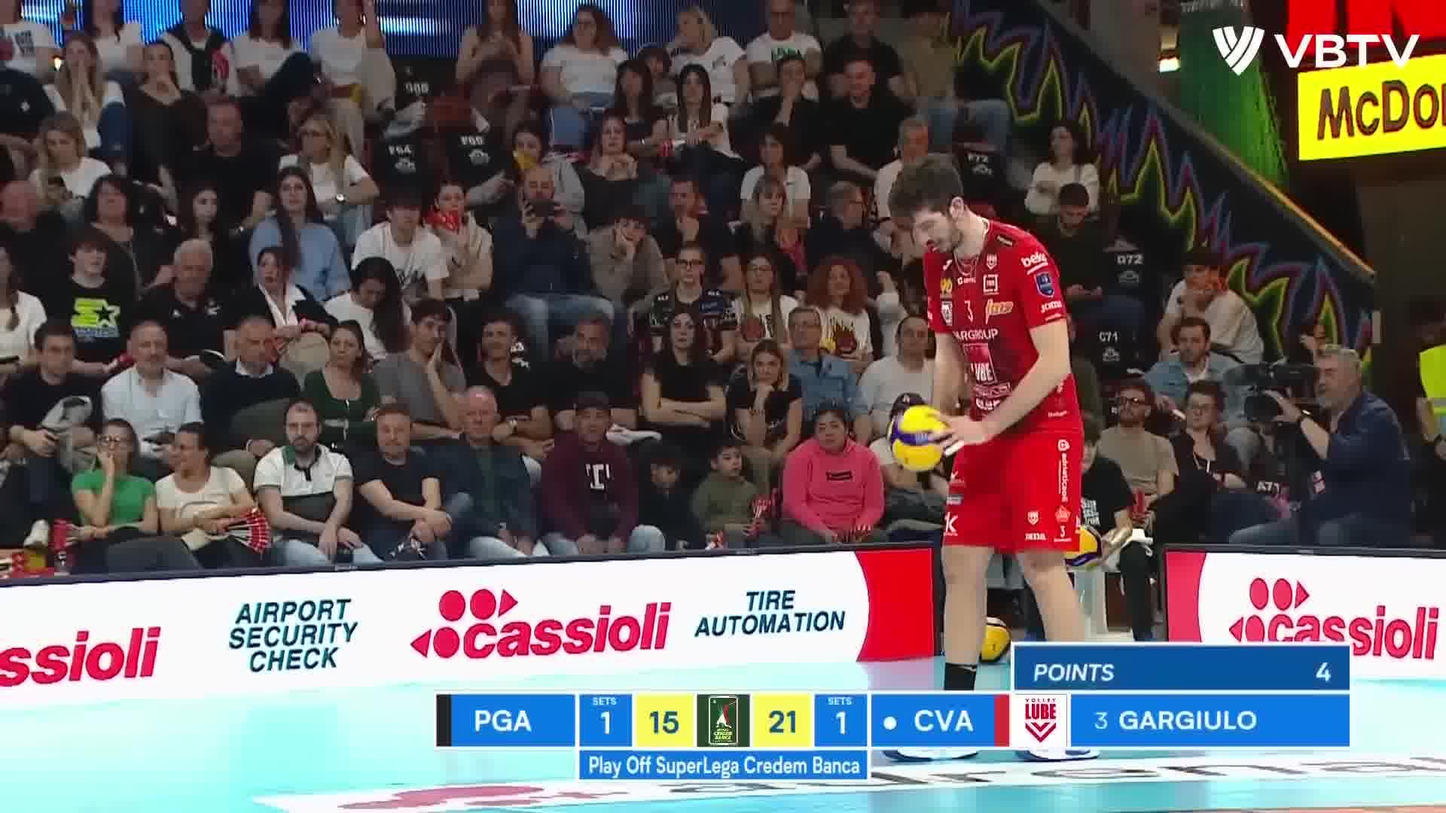balls: (880, 401, 958, 475)
